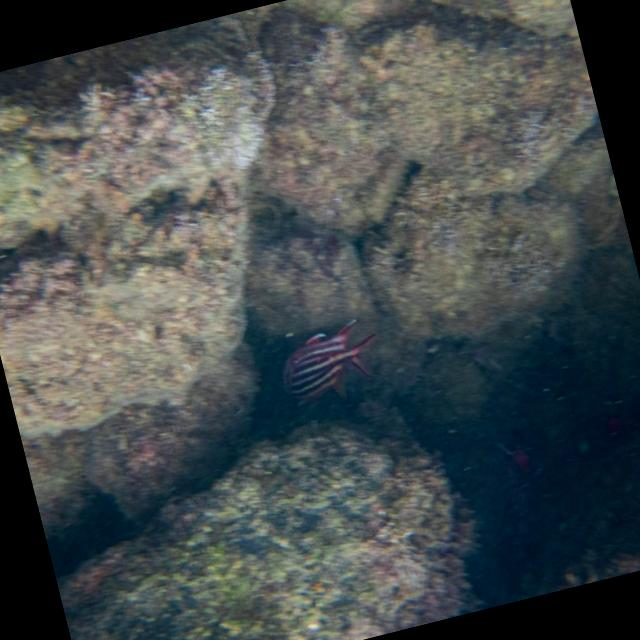Asker Baligi: (245, 304, 397, 439)
